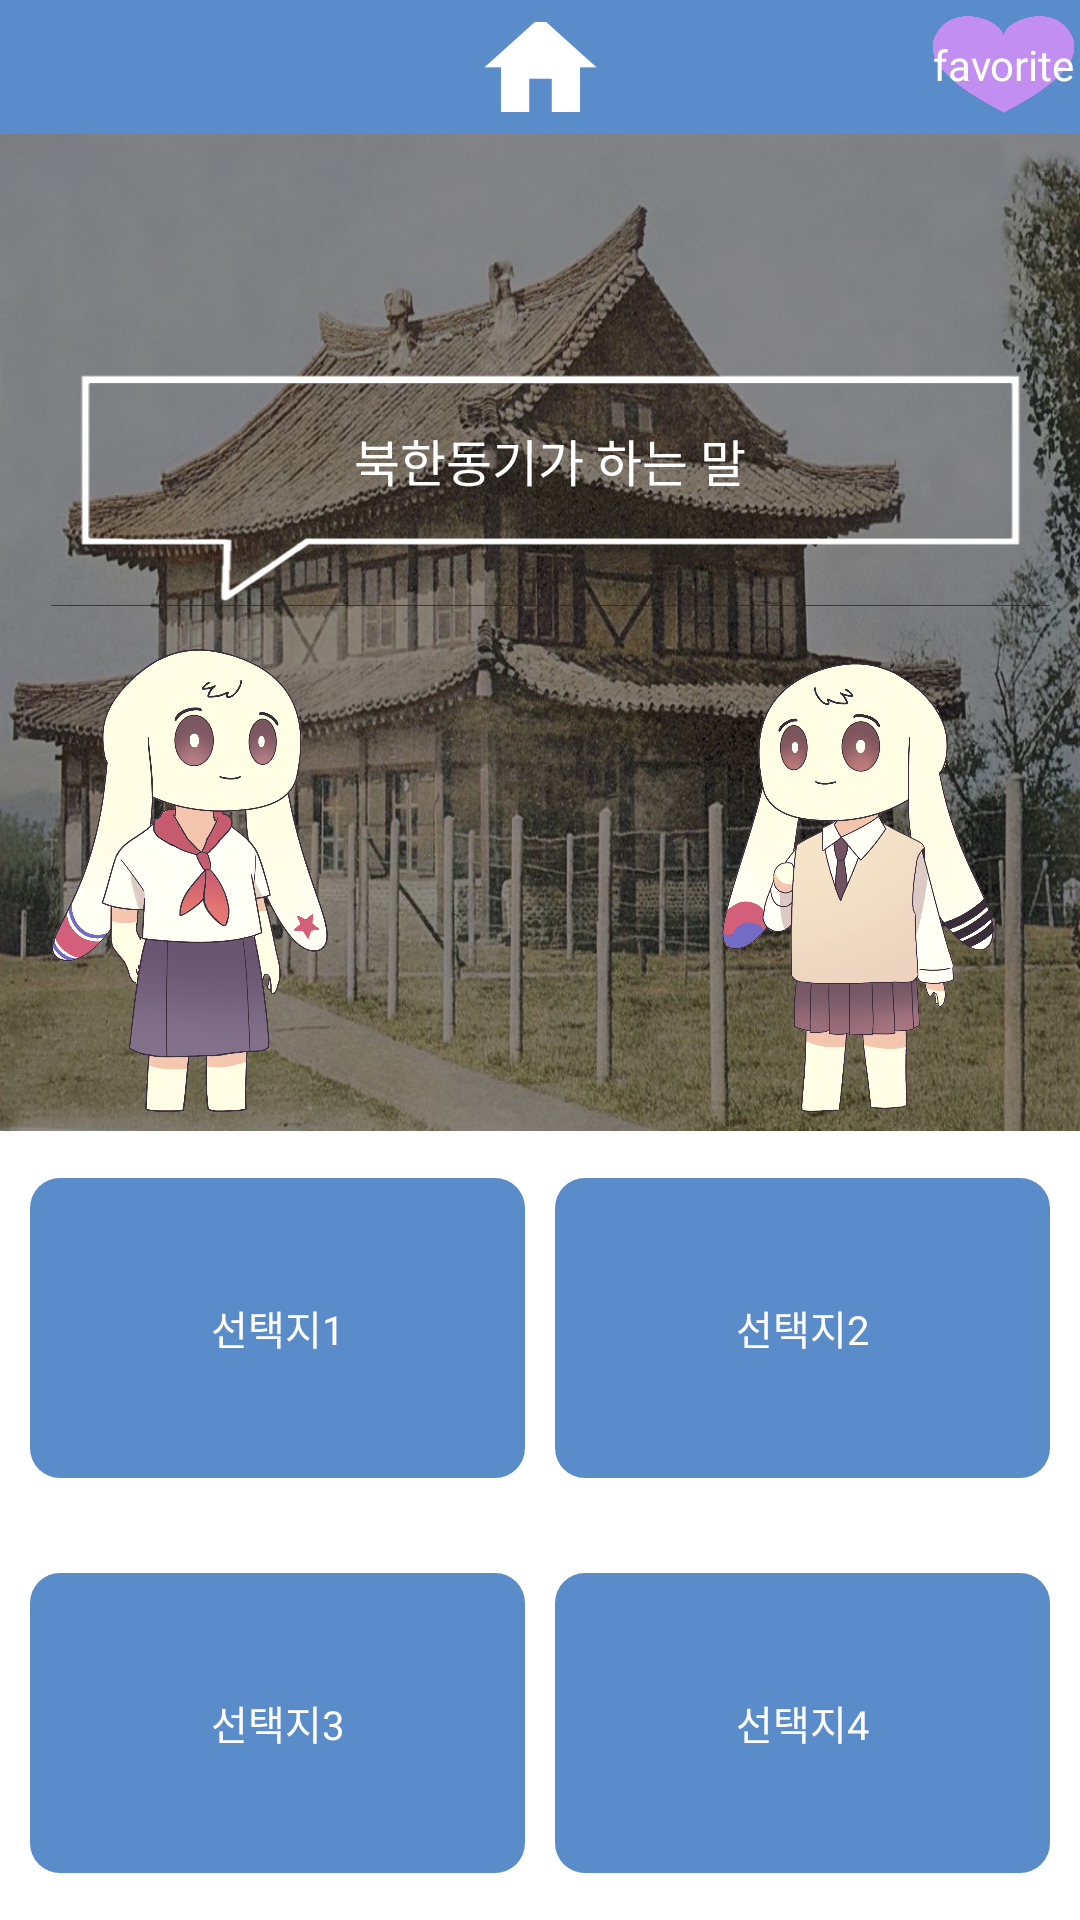

Where to tap for icons on this 1080 × 1920 app screen, as point (x, y):
home: point (540, 67)
